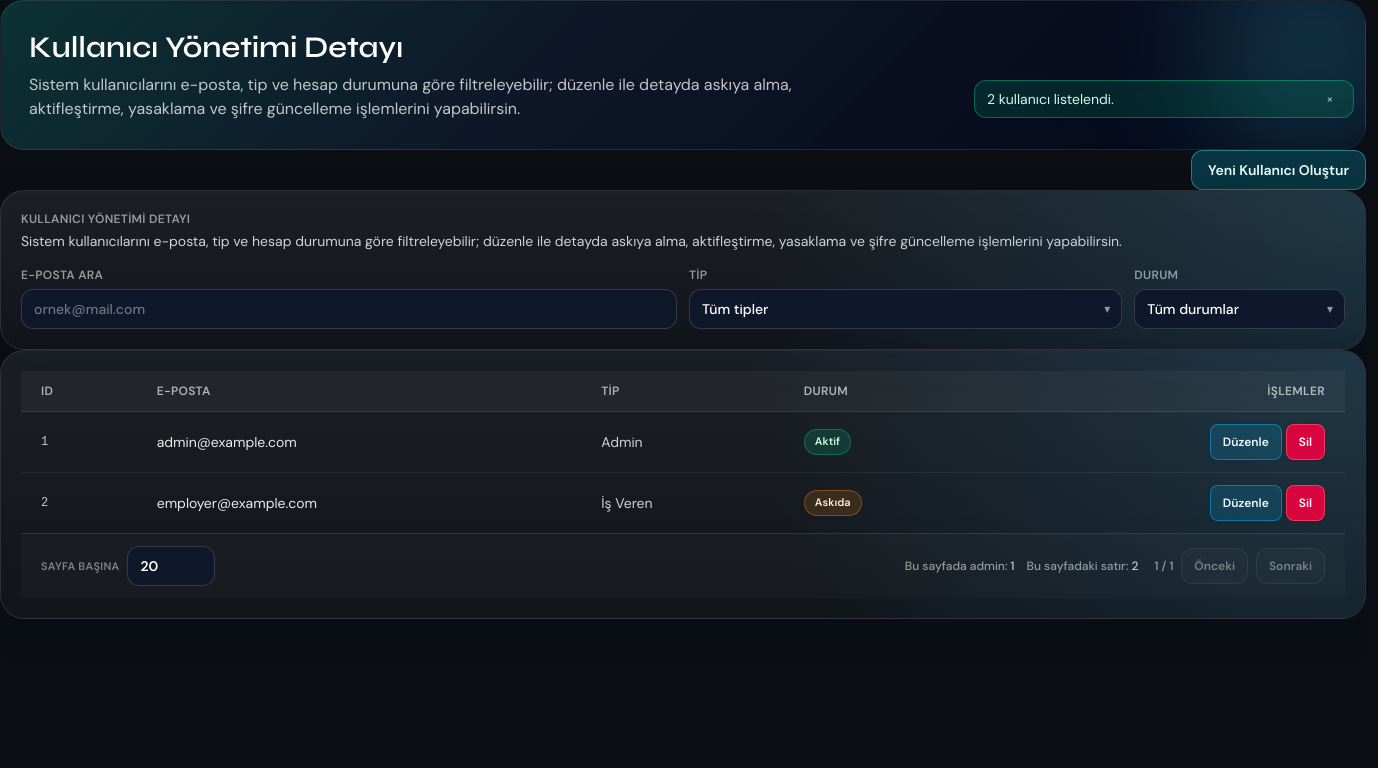
Test case: AdminUsersPage actions › navigates to create user page when create button is clicked
Expected: the text "admin@example.com" is shown, [137, 412, 581, 472]
Click the button "Yeni Kullanıcı Oluştur": [1278, 170] box [1191, 150, 1366, 190]
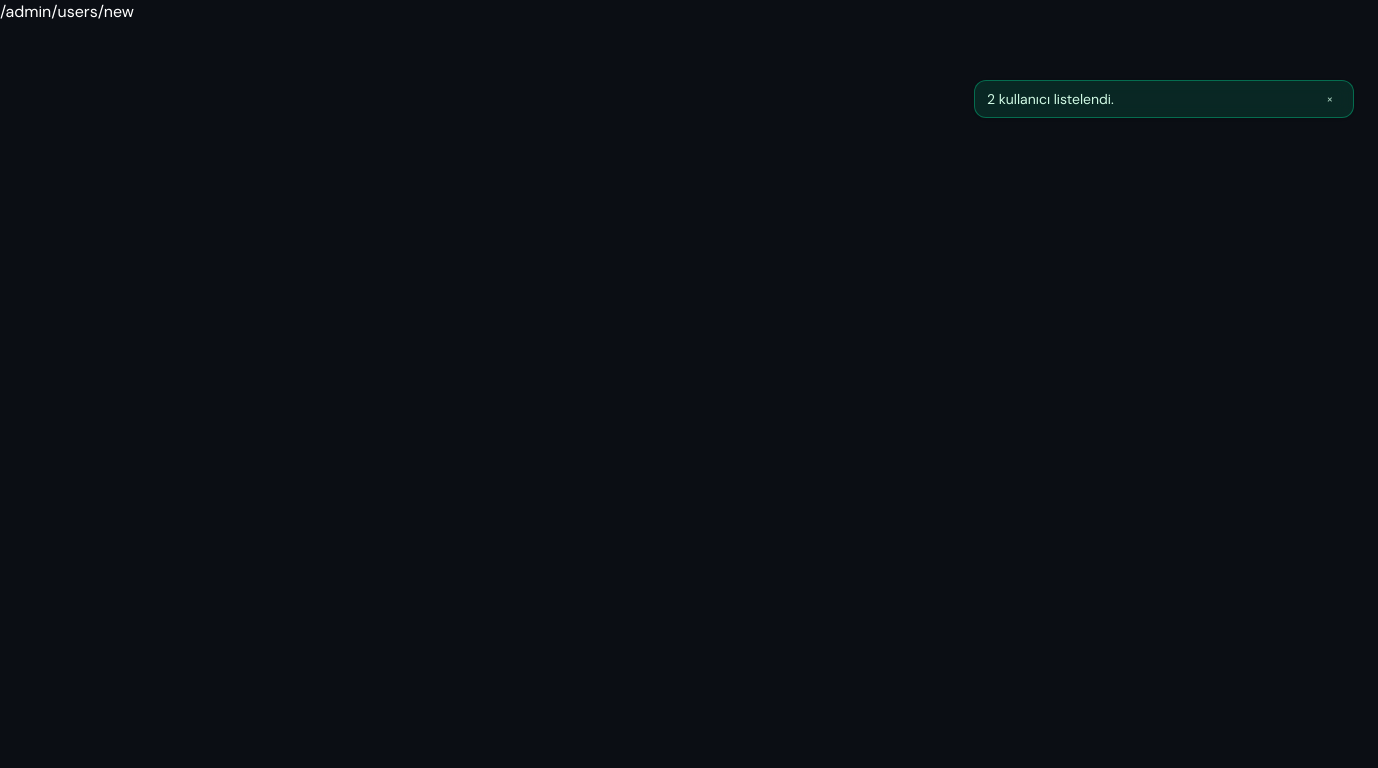
Now the text with test id "location-pathname" reads "/admin/users/new", box [0, 1, 134, 22]
